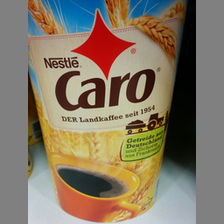coffee: (28, 1, 187, 224)
